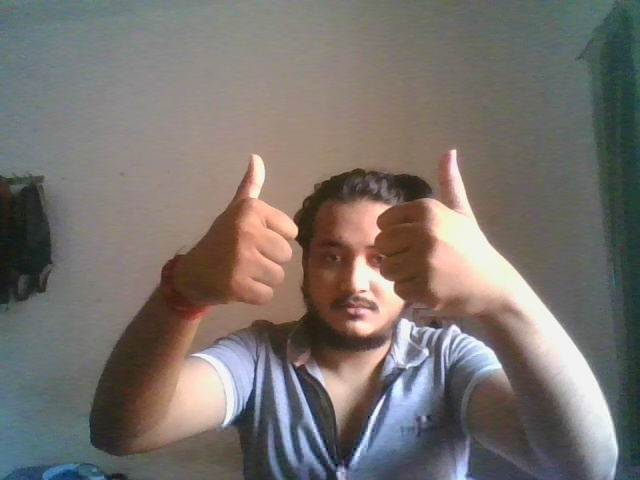ThumbsUp: (372, 148, 489, 323), (192, 153, 300, 309)
